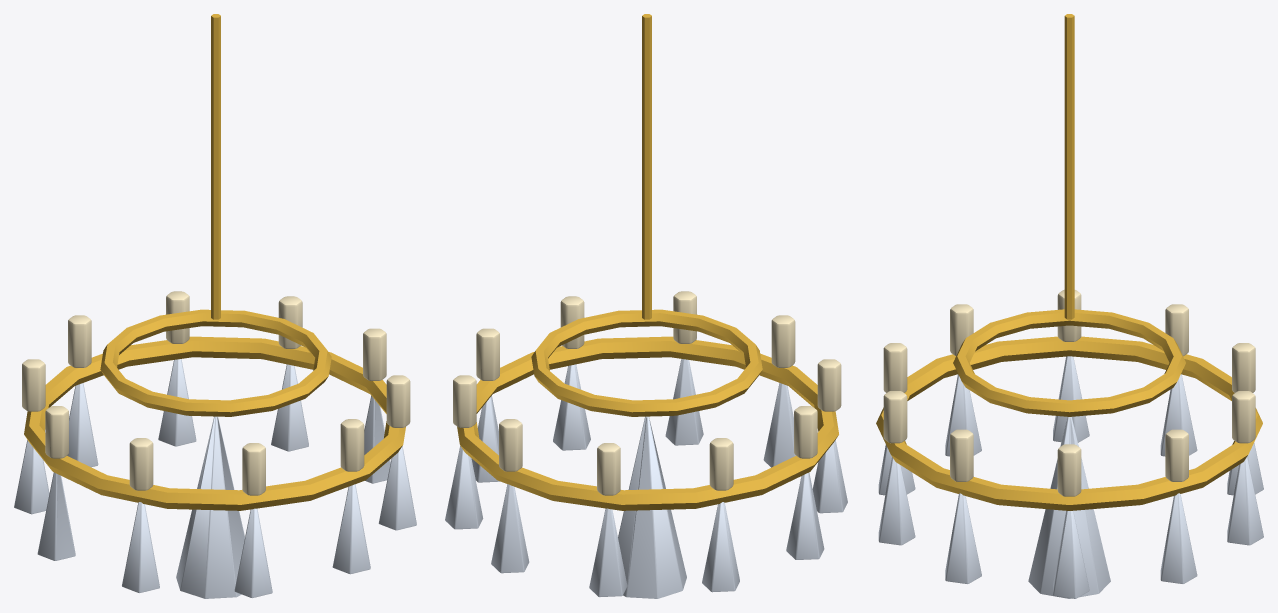
The model's file is HangRoyal.fbx.
The picture shows the model from 3 angles, left to right: view 1: azimuth 30°, elevation 25°; view 2: azimuth 150°, elevation 25°; view 3: azimuth 270°, elevation 25°; orthographic projection.
Visible parts, largest first — view 1: HangRoyal; view 2: HangRoyal; view 3: HangRoyal.
Part boxes in pixels (x1=…): HangRoyal: x1=14, y1=14, x2=416, y2=598; HangRoyal: x1=445, y1=14, x2=847, y2=598; HangRoyal: x1=876, y1=14, x2=1263, y2=598.
Size of the model in its own units: 486 by 750 by 466.
